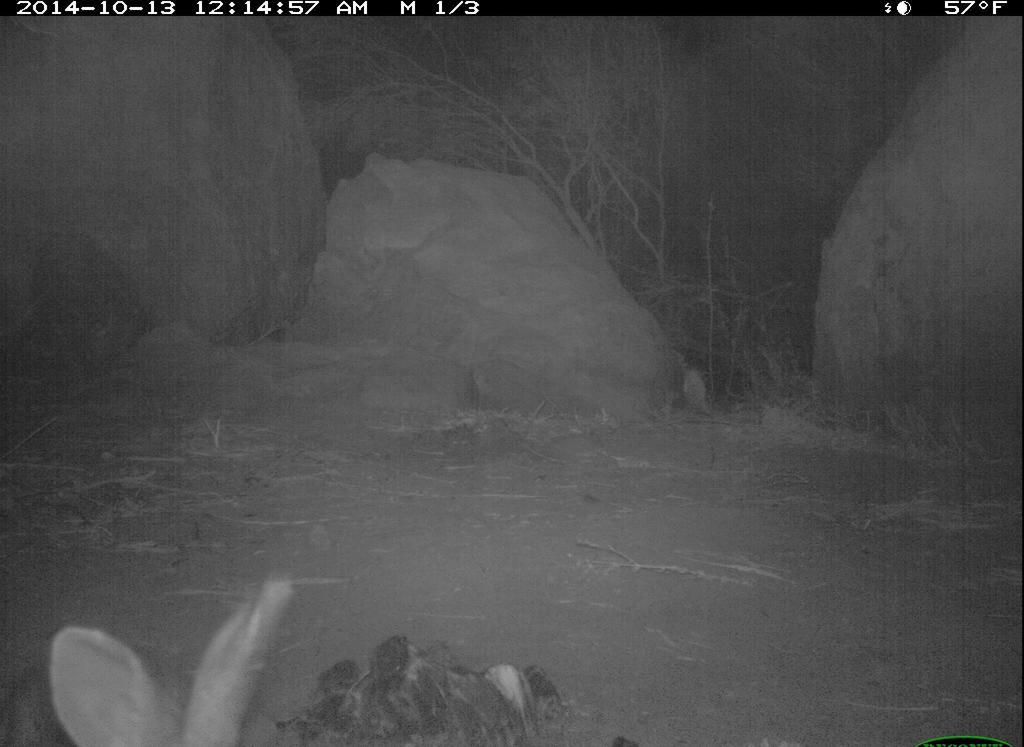rabbit: (30, 569, 338, 745)
